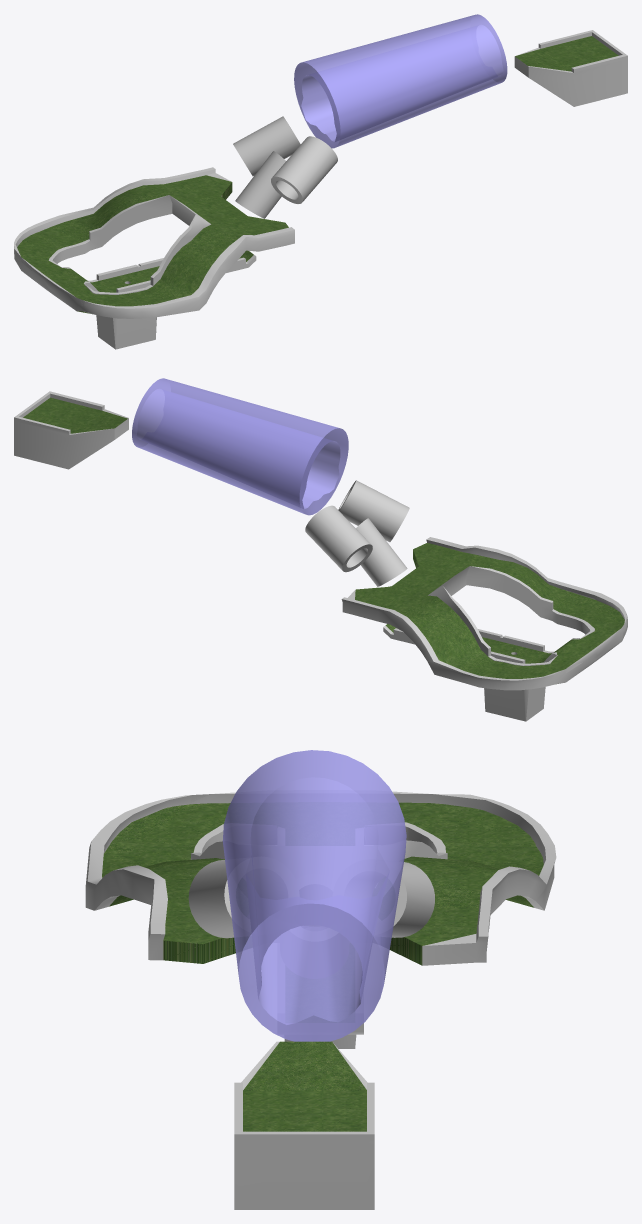
File: Hole.obj
3 renders of one model, top to bottom at view 1: azimuth 30°, elevation 25°; view 2: azimuth 150°, elevation 25°; view 3: azimuth 270°, elevation 25°, orthographic. The views are drawn at different scales.
Parts seen in each view (by area): view 1: ungrouped, pipe, grass; view 2: ungrouped, pipe, grass; view 3: pipe, ungrouped, grass.
Part boxes in pixels (x1,y1,x2,y2): ungrouped: [14, 30, 627, 349]; pipe: [294, 14, 507, 148]; grass: [17, 36, 618, 314]; ungrouped: [14, 391, 627, 721]; pipe: [132, 378, 348, 515]; grass: [23, 397, 624, 678]; pipe: [222, 750, 406, 1041]; ungrouped: [85, 791, 556, 1209]; grass: [102, 802, 543, 1131].
Size of the model in its own units: 327 by 131 by 119.
Materials: 2 (1 with a texture image).
